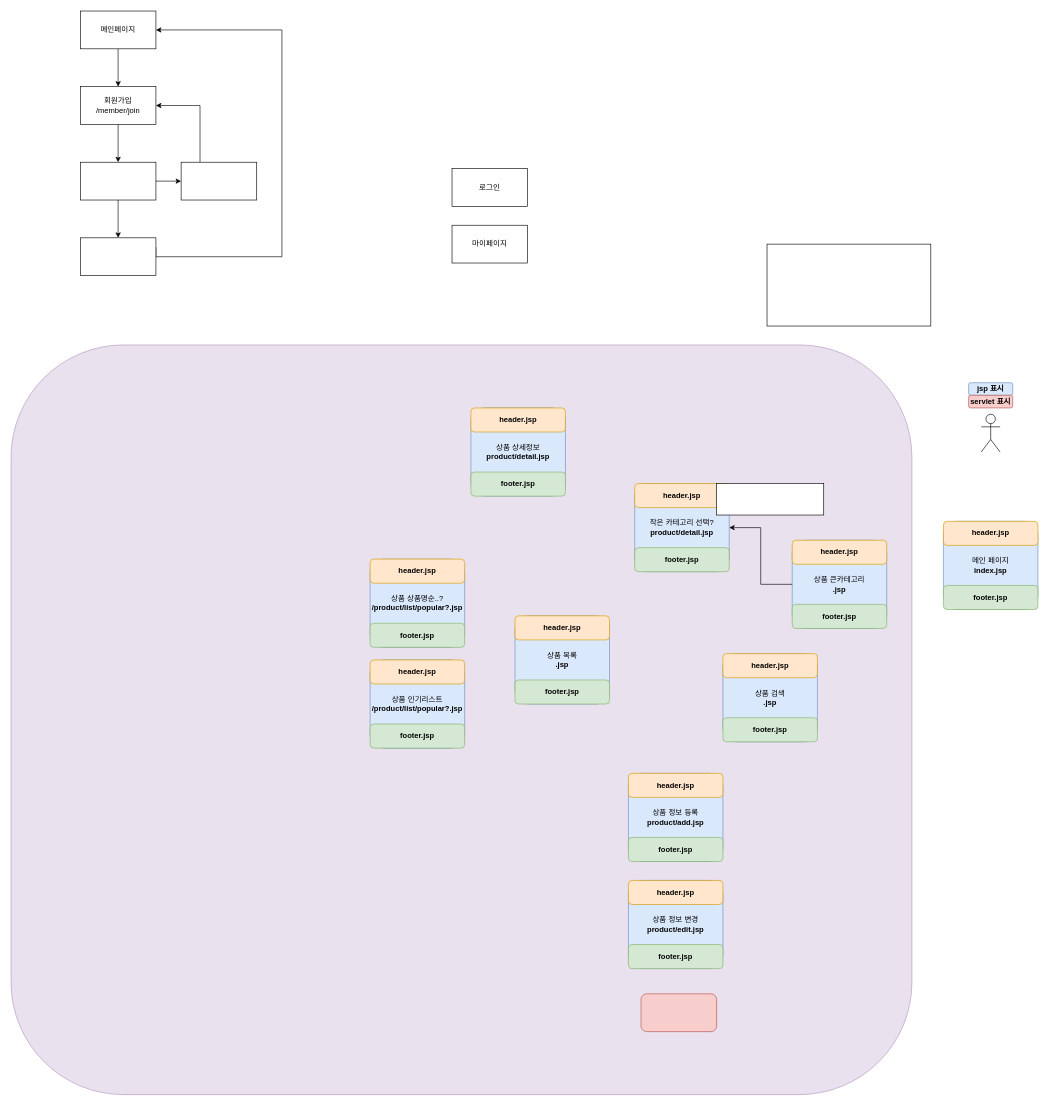
The diagram is 1049 pixels wide and 1106 high, and some of its shapes have lost their labels. The shapes that lost their labels are listed below. From the top down, each one's centre as x and y in pixels, then its label:
At point (118, 181): "정보입력".
At point (218, 181): "회원가입 실패 /member/join_fail".
At point (118, 256): "회원가입 성공 /member/join_success".
At point (848, 284): "큰 카테고리 > 상품 목록 > 상품 상세정보".
At point (990, 433): "고객".
At point (770, 499): "작은건 헤더로".
At point (678, 1012): "상품 삭제 product/delete.kh".
